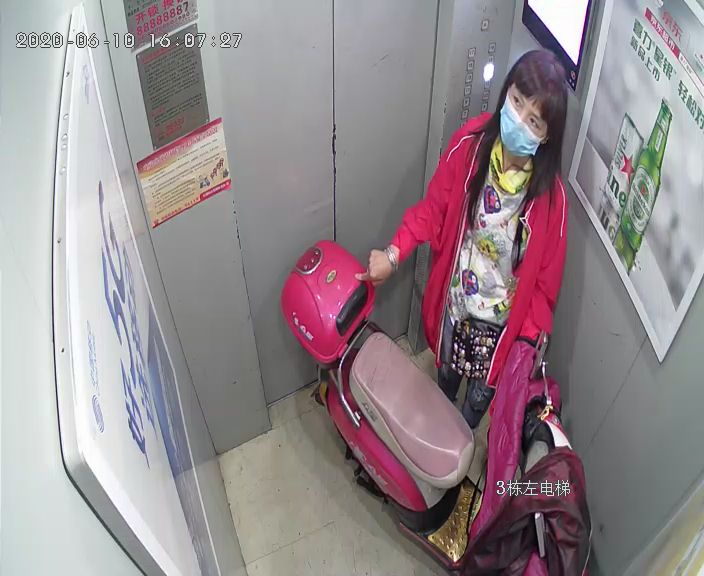Electric-bicycle: (282, 240, 604, 574)
